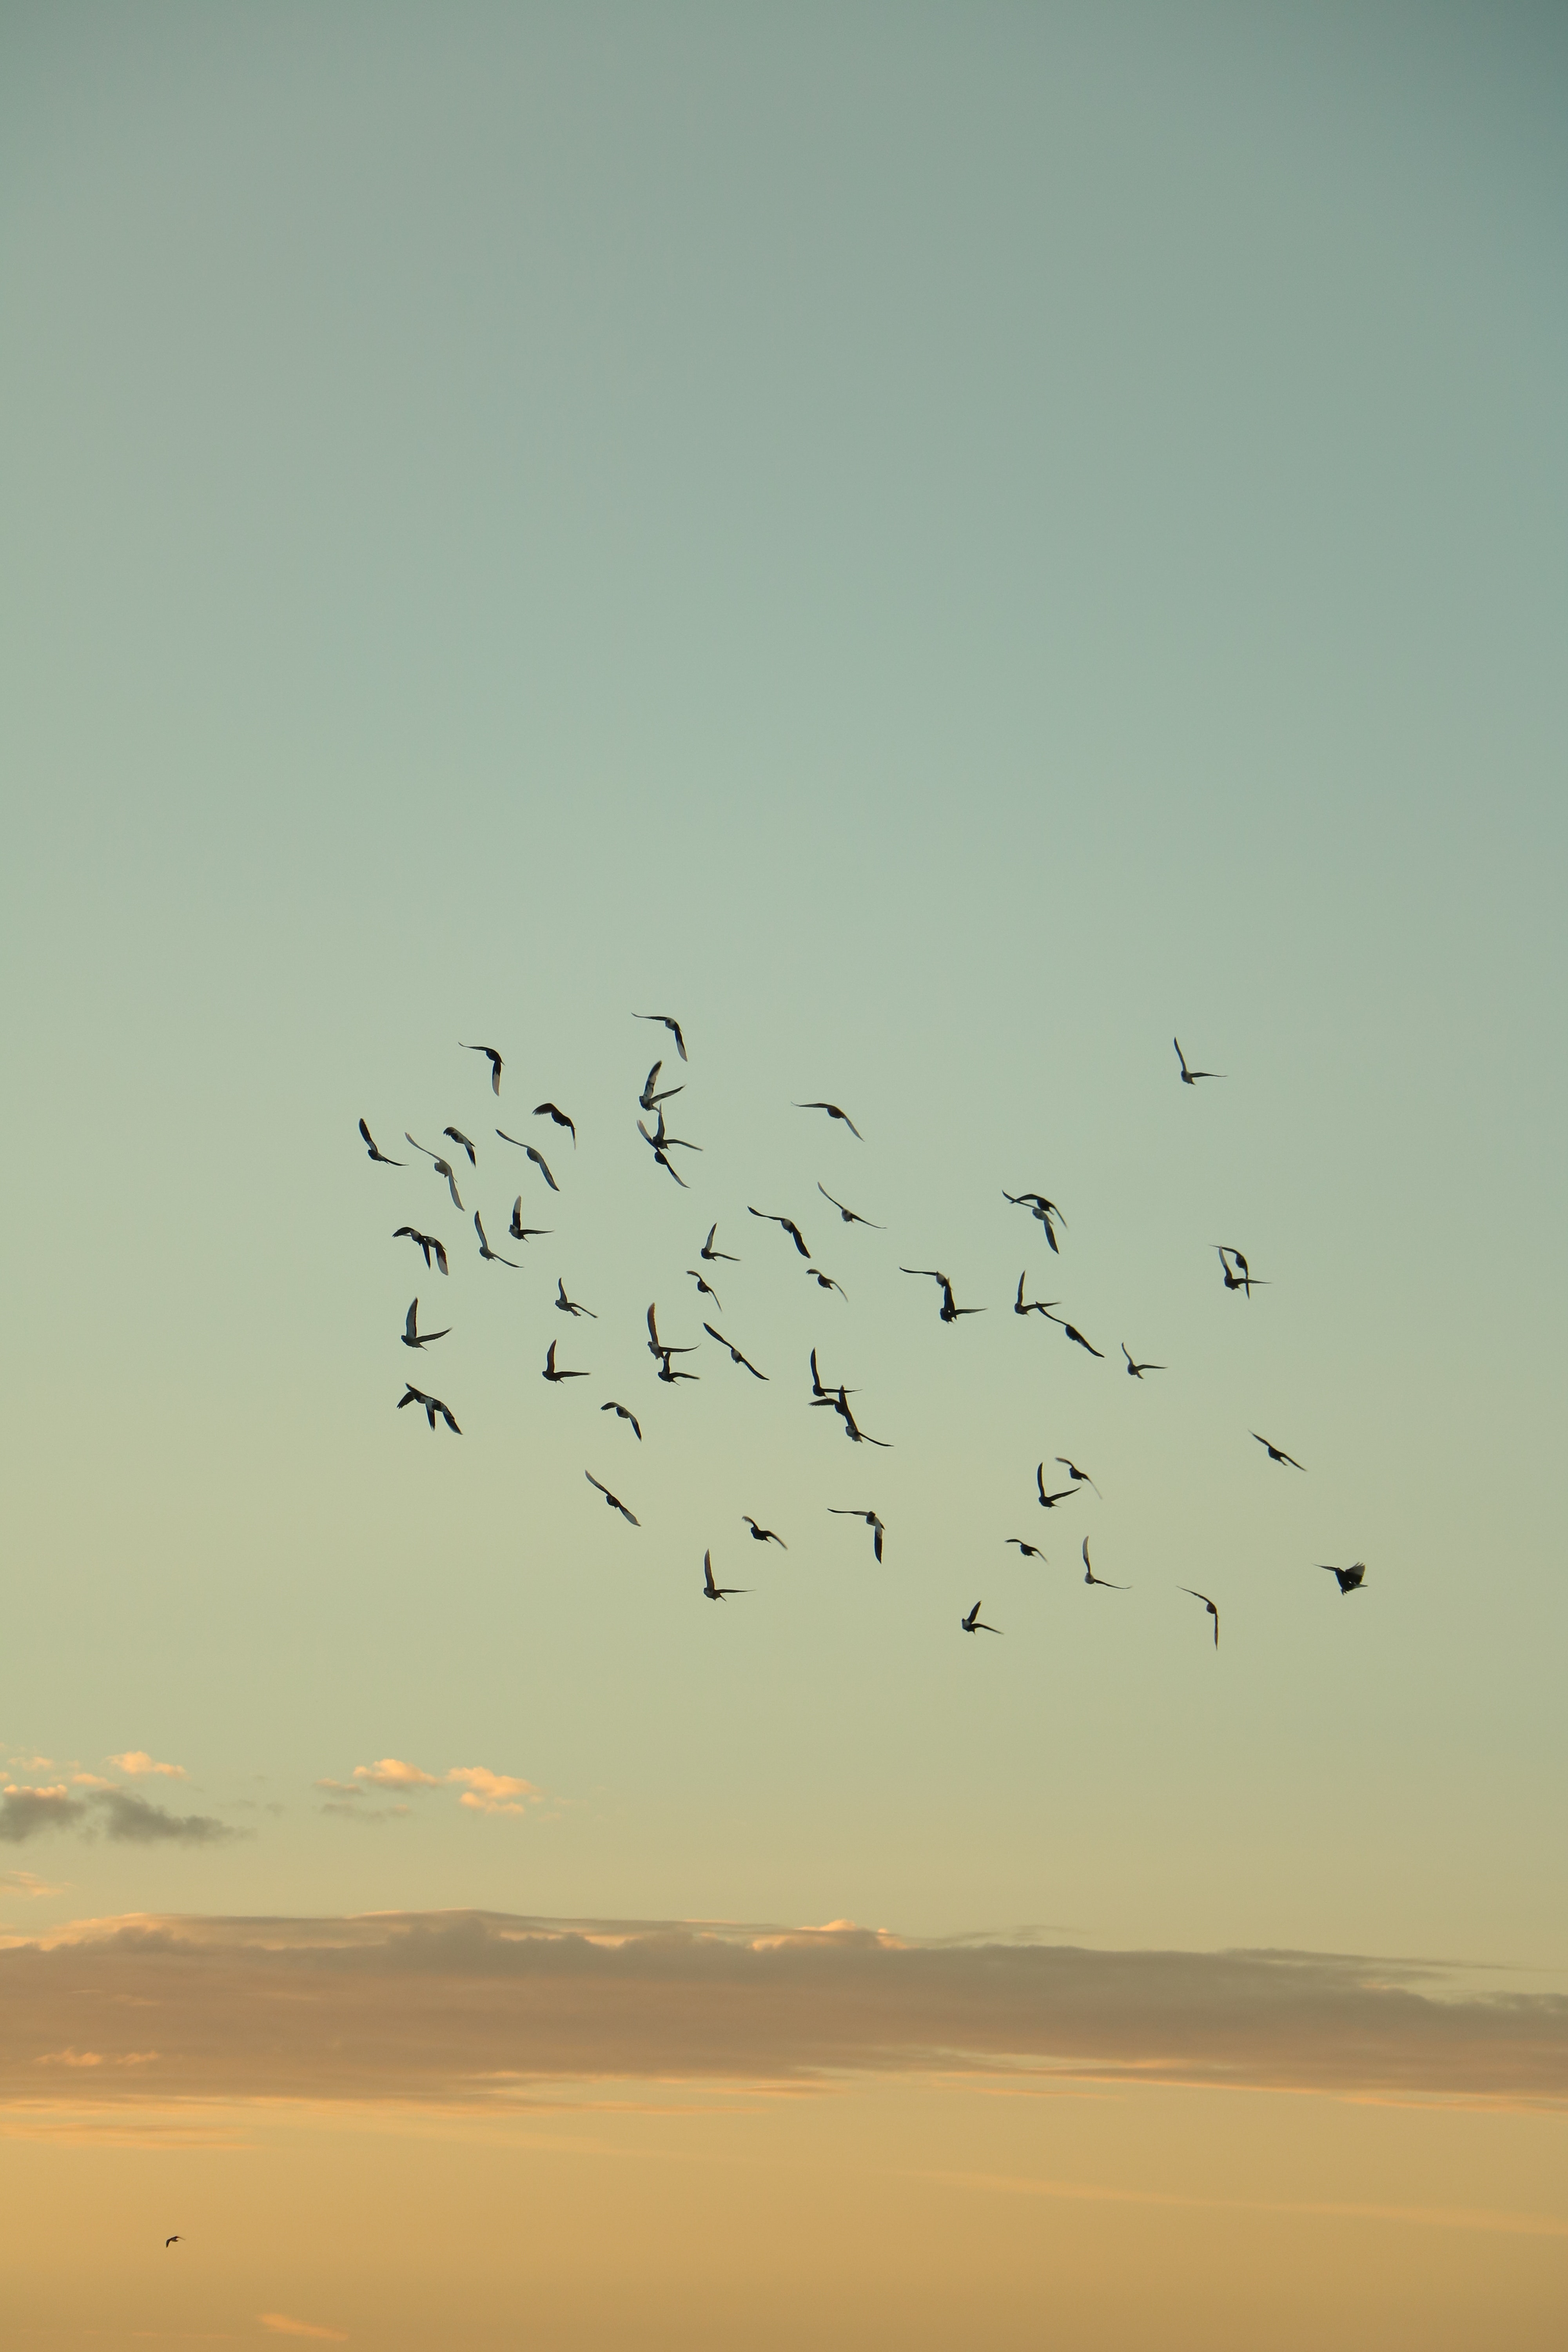Stratus: (7, 1890, 1568, 2152)
